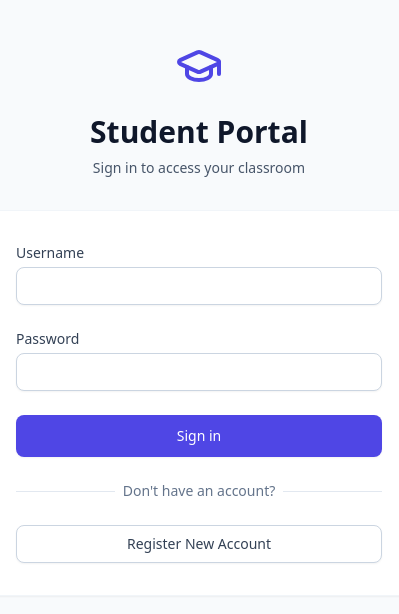
Test: Auth pages › student login shows error on failure
The width and height of the screenshot is (399, 614).
Type "stu" into the field labelled "Username" at [199, 286], box [16,267,382,305]
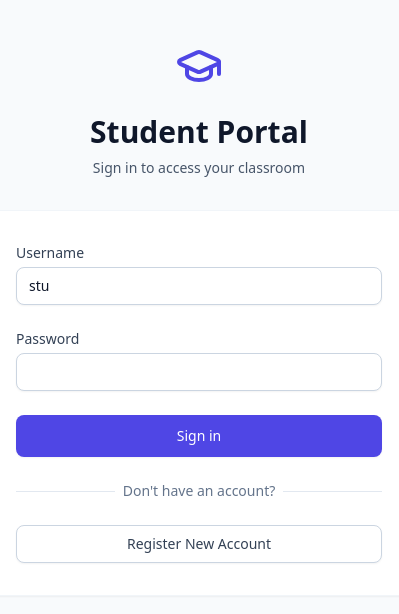
Type "pass" into the password field labelled "Password" at [199, 372], box [16,353,382,391]
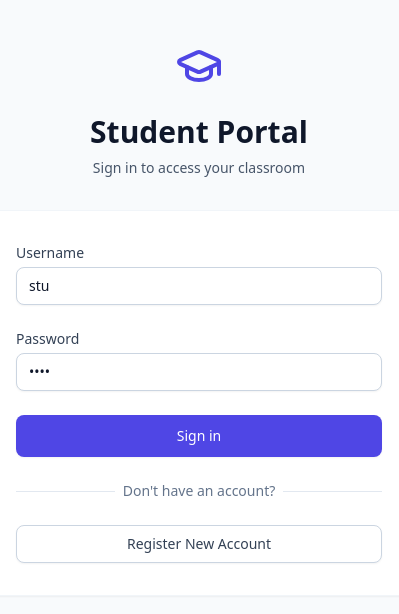
Click the button "Sign in" at [199, 436], box [16,415,382,457]
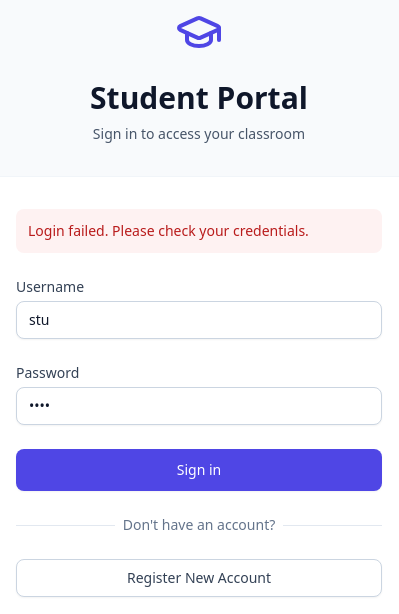
Result: the text "Login failed. Please check your credentials." is shown at [16,209,382,253]
